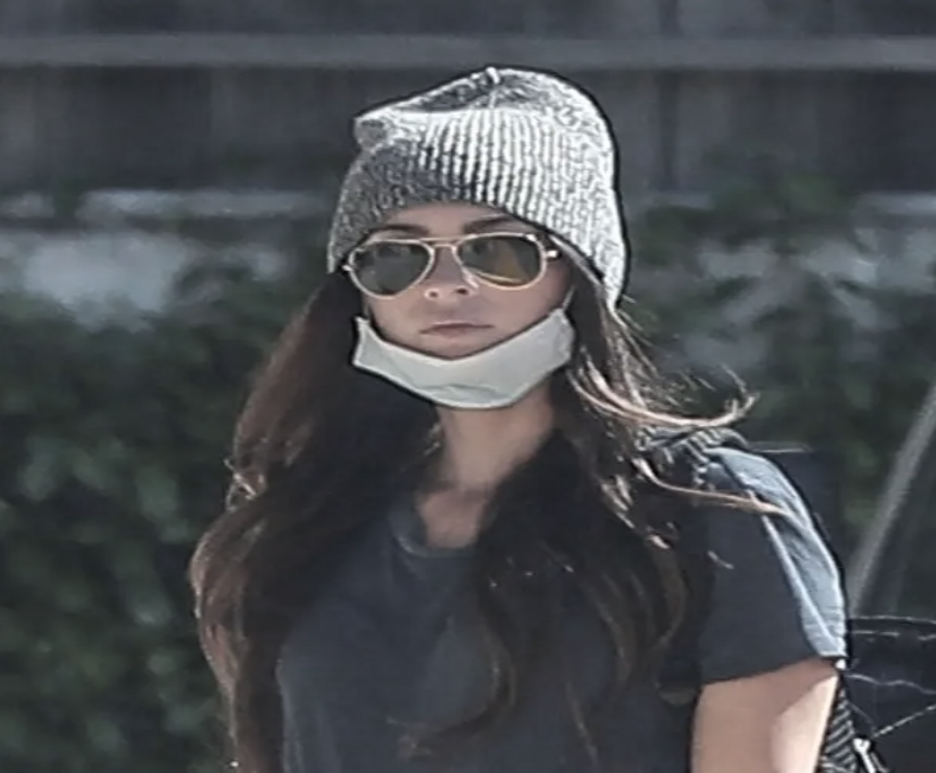mask_weared_incorrect: (328, 70, 626, 416)
